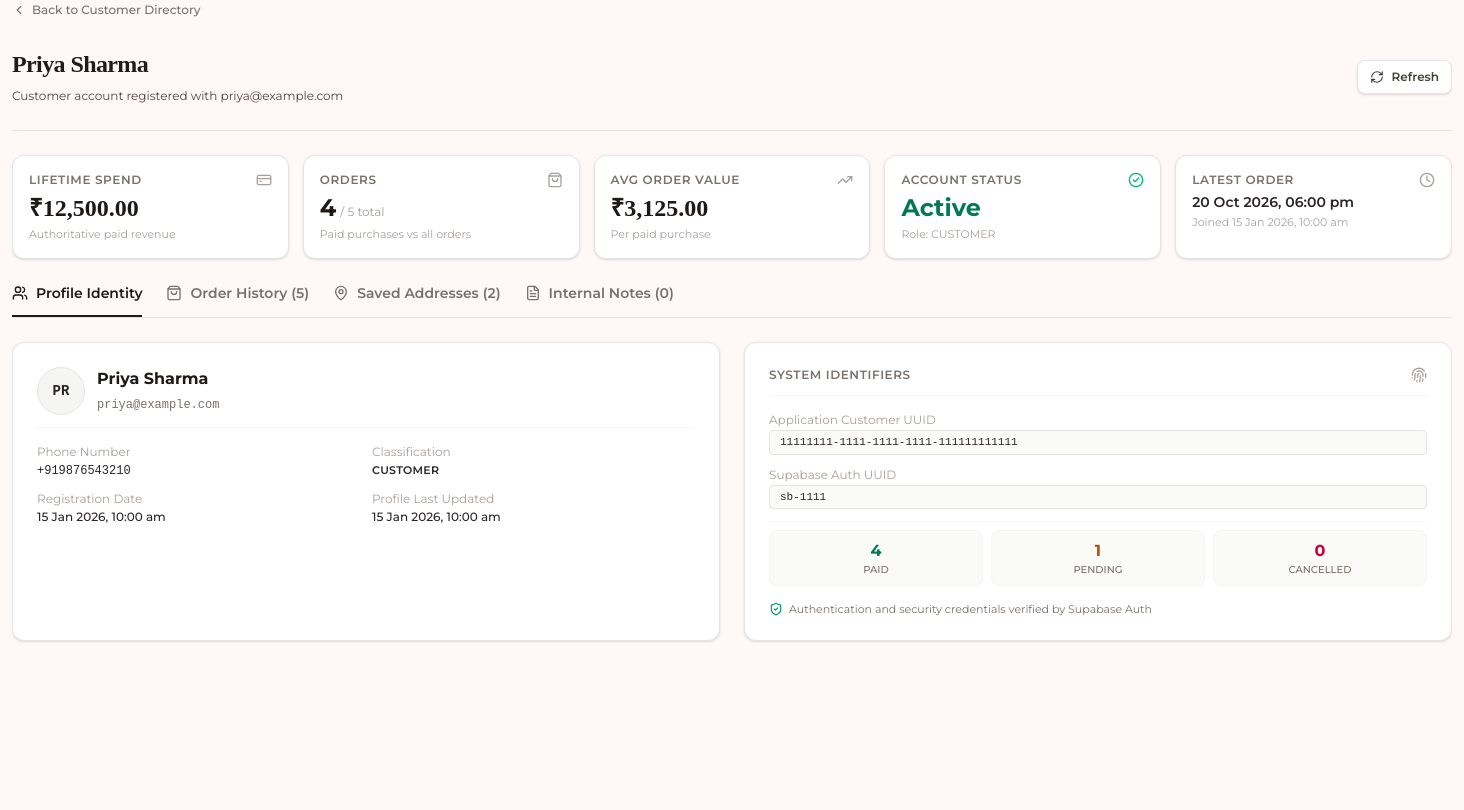
AdminCustomerDetailClient › handles empty notes state with helpful prompt
Check: the 1st heading "Priya Sharma" is shown, box [12,51,148,77]
Click the button "Internal Notes (0)": (599, 300) [525,283,674,317]
(page scrolled)
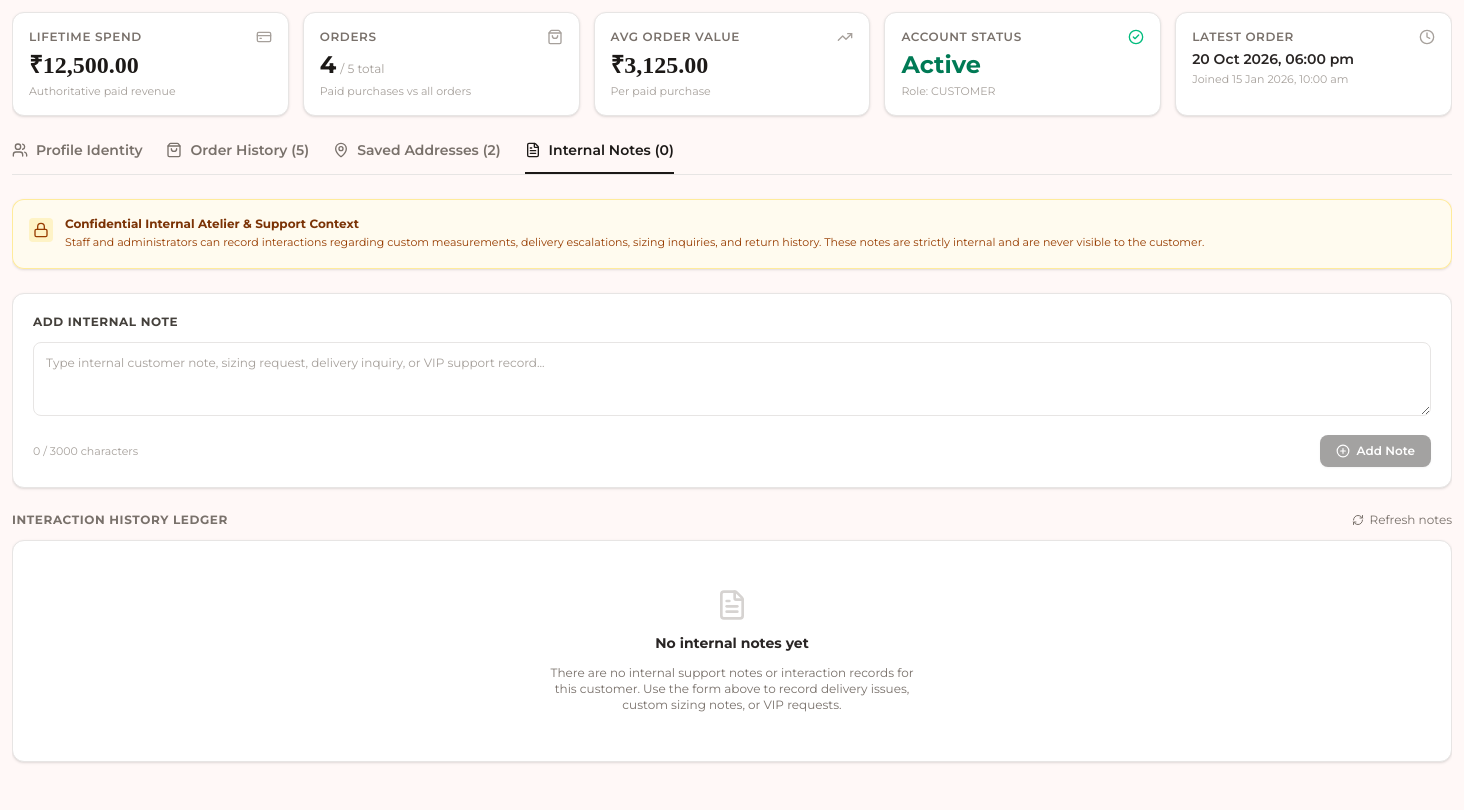
Check: the heading "No internal notes yet" is shown, box [655,634,809,652]
Check: the text "There are no internal support notes or interaction records" is shown, box [550,665,914,712]
